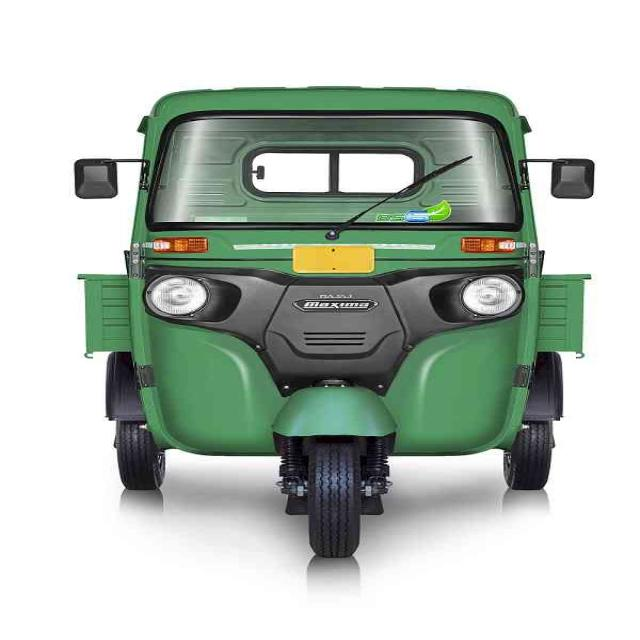autorickshaw: (75, 88, 594, 558)
